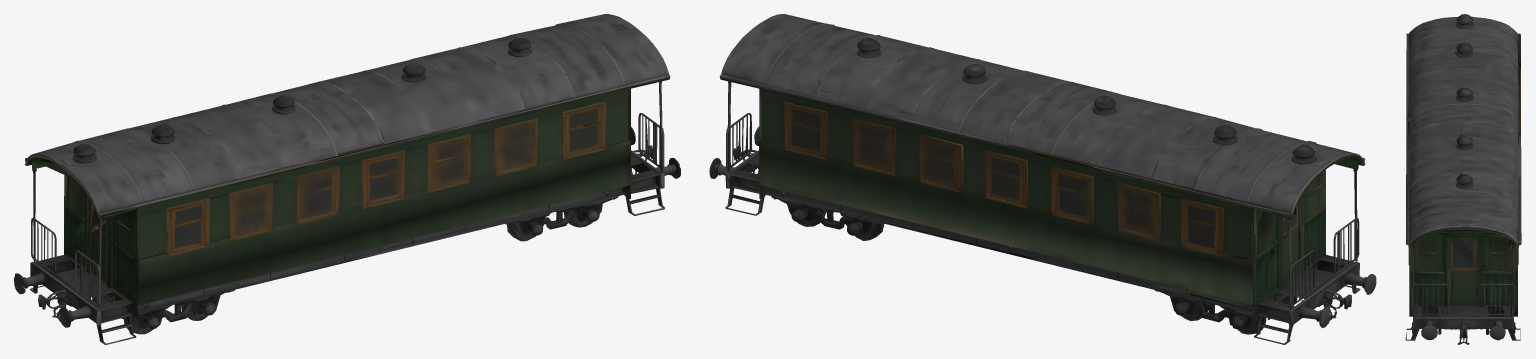
File: wagon_old.glb
3 renders of one model, left to right at view 1: azimuth 30°, elevation 25°; view 2: azimuth 150°, elevation 25°; view 3: azimuth 270°, elevation 25°, orthographic. The views are drawn at different scales.
Size of the model in its own units: 0.9492 by 0.2759 by 0.206.
1 material, 1 textured.
